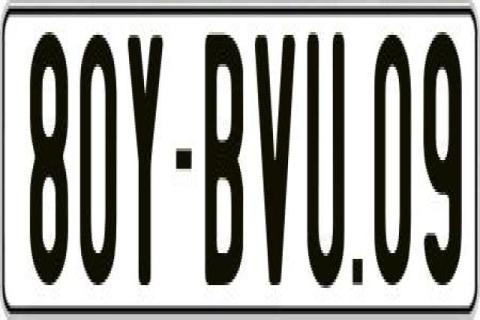0: (374, 29, 415, 297), (30, 29, 71, 288), (80, 26, 118, 294), (420, 26, 458, 288)
B: (204, 35, 247, 285)
U: (305, 29, 349, 285)
V: (255, 35, 299, 291)
Y: (128, 32, 170, 282)
